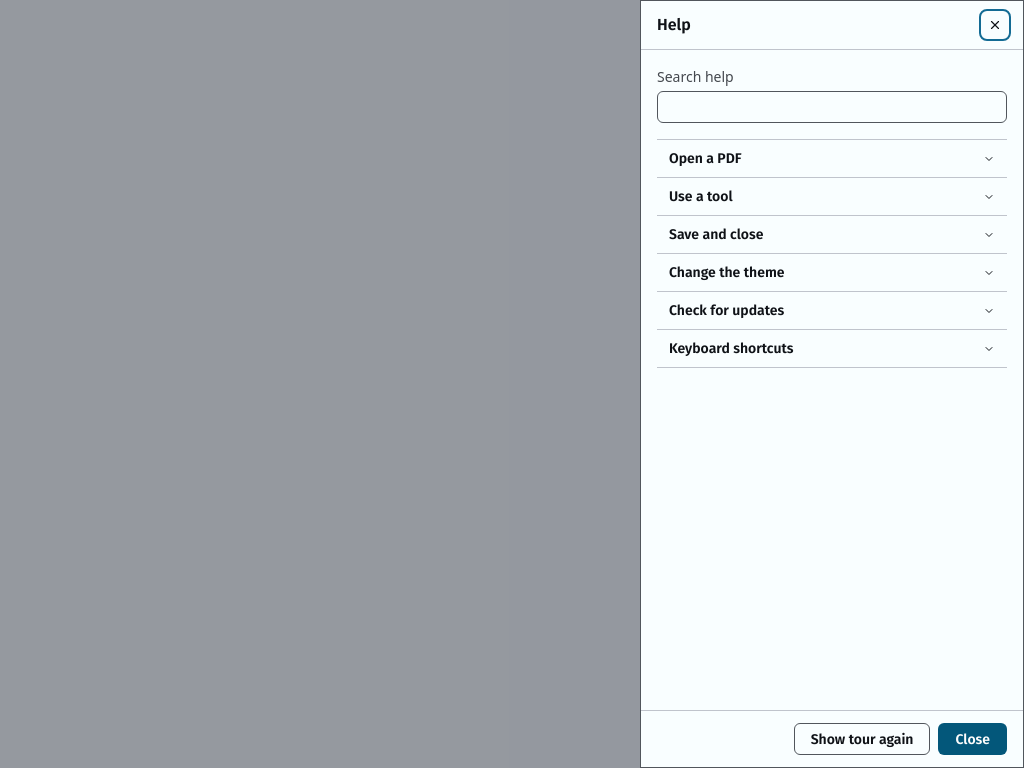
HelpPanel › says so when no topic matches
Type "zzzz" into the search field labelled "Search help".
click(832, 107); type("zzzz")  # box x1=657 y1=91 x2=1007 y2=123
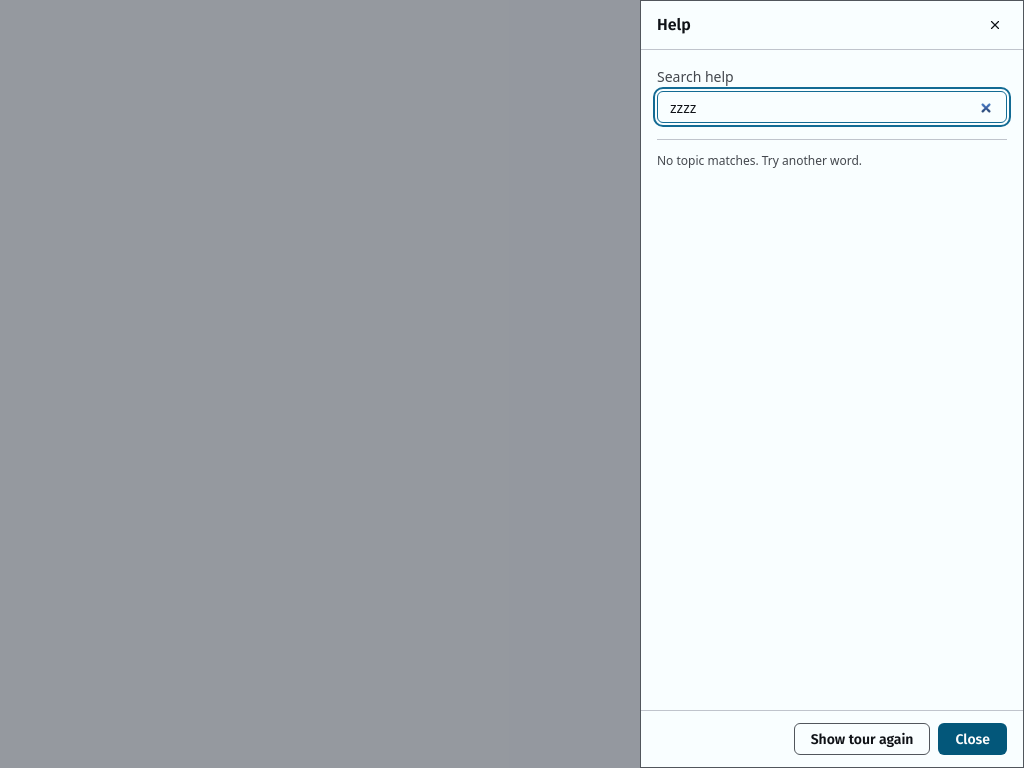
Expected: the message reads "No topic matches. Try another word.", x1=657 y1=152 x2=862 y2=169
